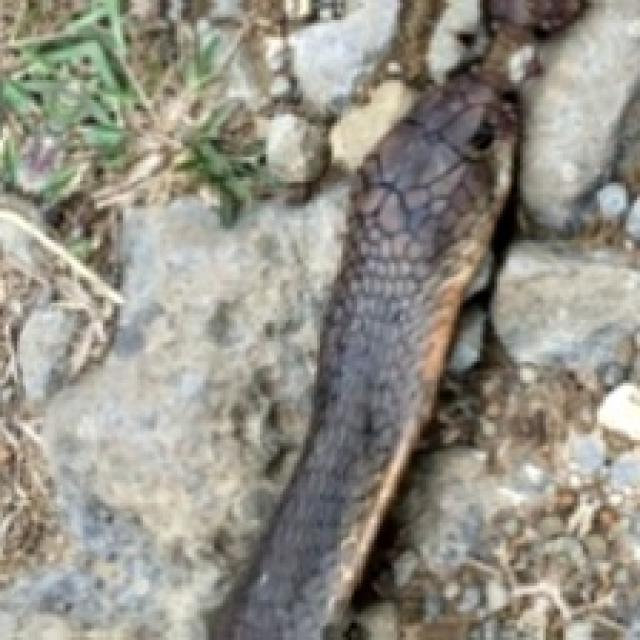king cobra: (211, 0, 566, 637)
